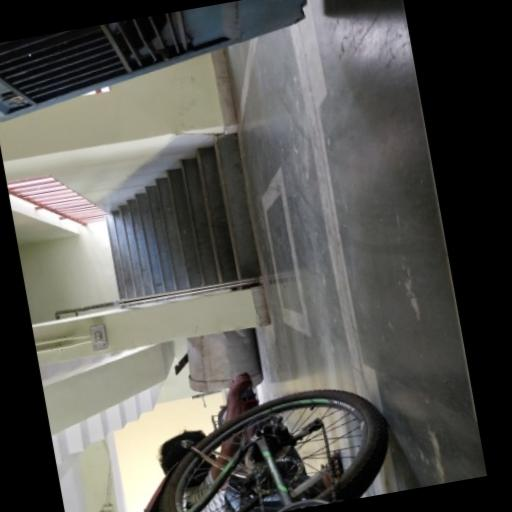stairs: (107, 134, 261, 299)
